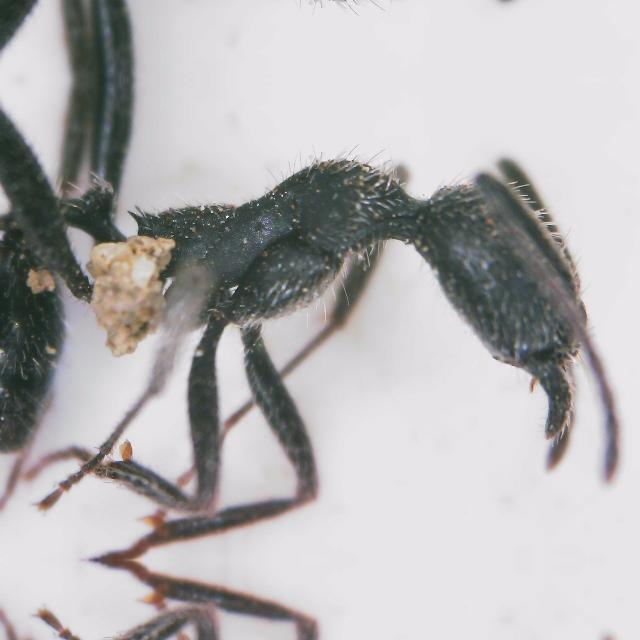Apheanogaster: (11, 92, 640, 510)
